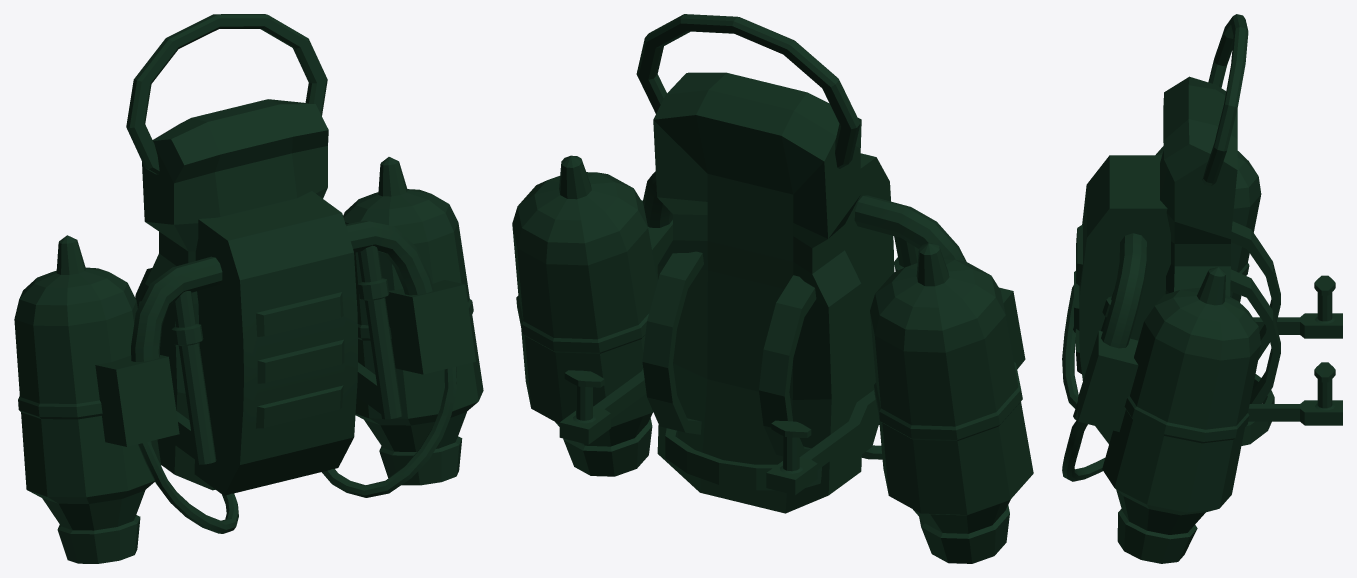
File: jetpack.glb
3 renders of one model, left to right at view 1: azimuth 30°, elevation 25°; view 2: azimuth 150°, elevation 25°; view 3: azimuth 270°, elevation 25°, orthographic. The views are drawn at different scales.
Parts seen in each view (by area): view 1: Object_4; view 2: Object_4; view 3: Object_4.
Boxes of the visible parts, <box> form: Object_4: <box>14,14,483,563</box>; Object_4: <box>512,14,1033,563</box>; Object_4: <box>1062,14,1342,563</box>.
Bounding box in the file's own units: 12.42 × 12.89 × 7.24.
